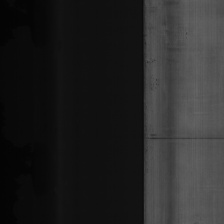crease: (144, 130, 224, 146)
